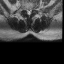CCS_normal: (28, 7, 30, 17)
LFS_severe_stenosis: (31, 6, 33, 12)
LLS_normal: (30, 7, 31, 16)
RFS_stenosis: (24, 6, 26, 12)
RLS_normal: (26, 7, 28, 15)
